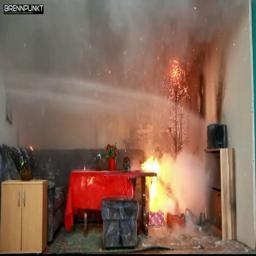fire: (136, 151, 165, 205)
smoke: (170, 146, 217, 226)
